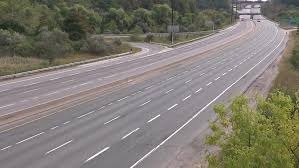strada: (0, 9, 296, 165)
